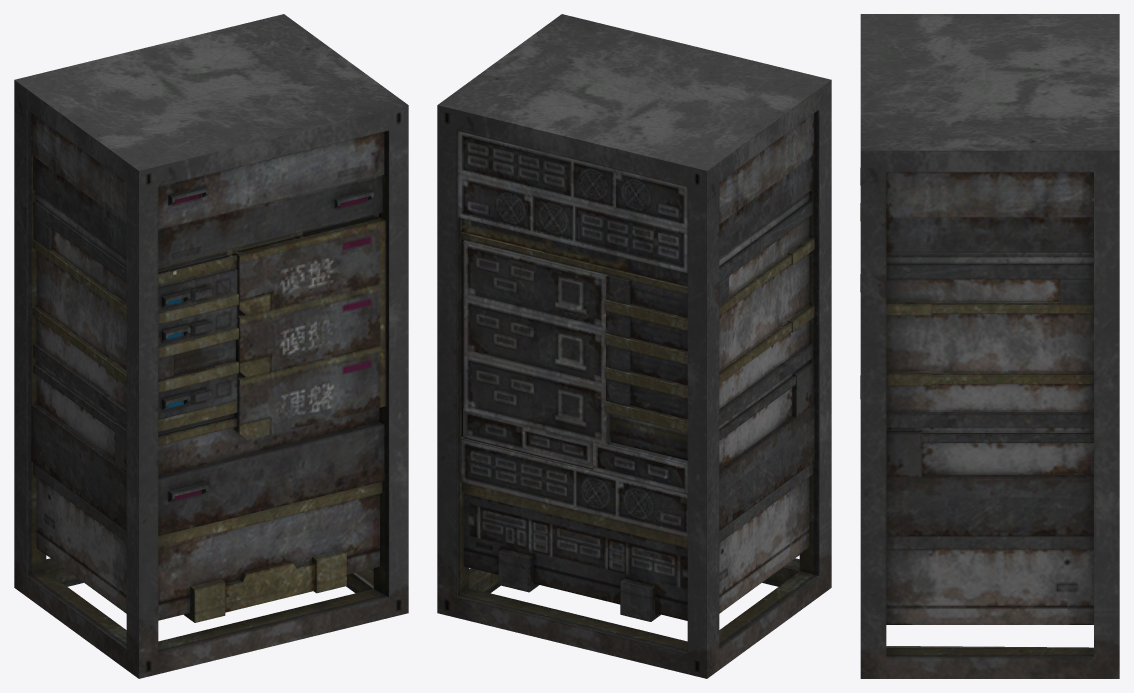
File: server_data_02.DAE
The picture shows the model from 3 angles, left to right: view 1: azimuth 30°, elevation 25°; view 2: azimuth 150°, elevation 25°; view 3: azimuth 270°, elevation 25°; orthographic projection. The views are drawn at different scales.
Parts seen in each view (by area): view 1: server_data_02; view 2: server_data_02; view 3: server_data_02.
Boxes of the visible parts, x1,y1,x2,y2 form: server_data_02: (14, 14, 408, 678); server_data_02: (437, 14, 831, 678); server_data_02: (860, 14, 1119, 678).
Bounding box in the file's own units: 100 × 80.1 × 180.
